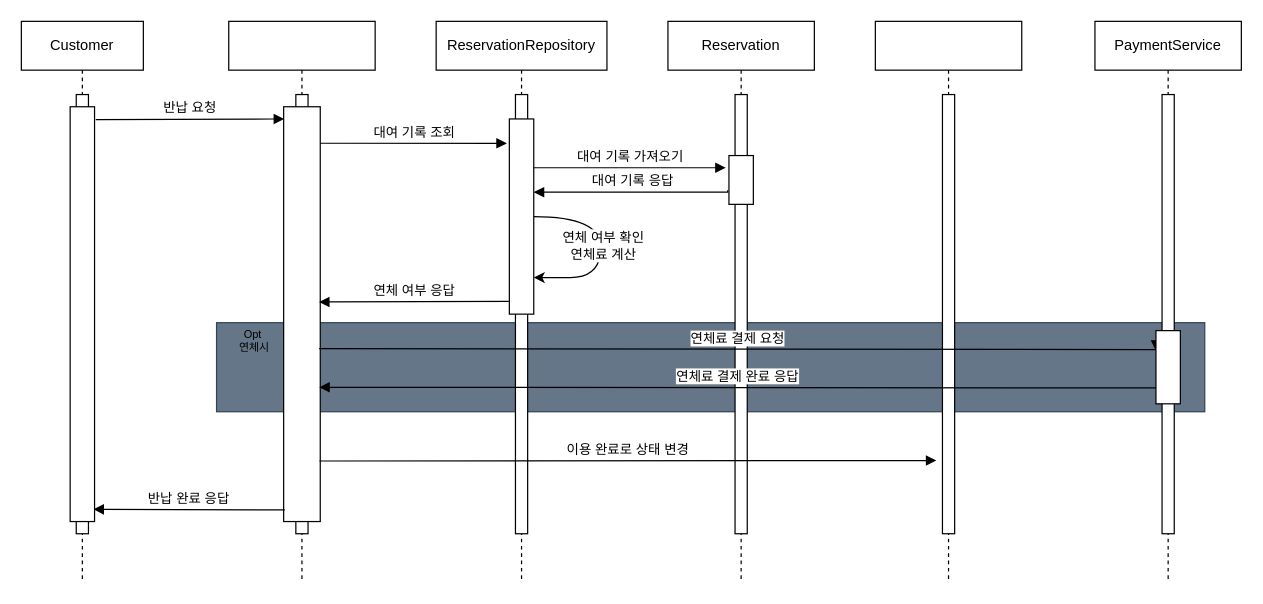
The diagram is 1263 pixels wide and 604 high, and some of its shapes have lost their labels. The box of each missing label's shape, as (x1, y1, x2, y2) in pixels:
ReservationsRoute: (228, 20, 375, 583)
Vehicle: (874, 20, 1022, 583)
